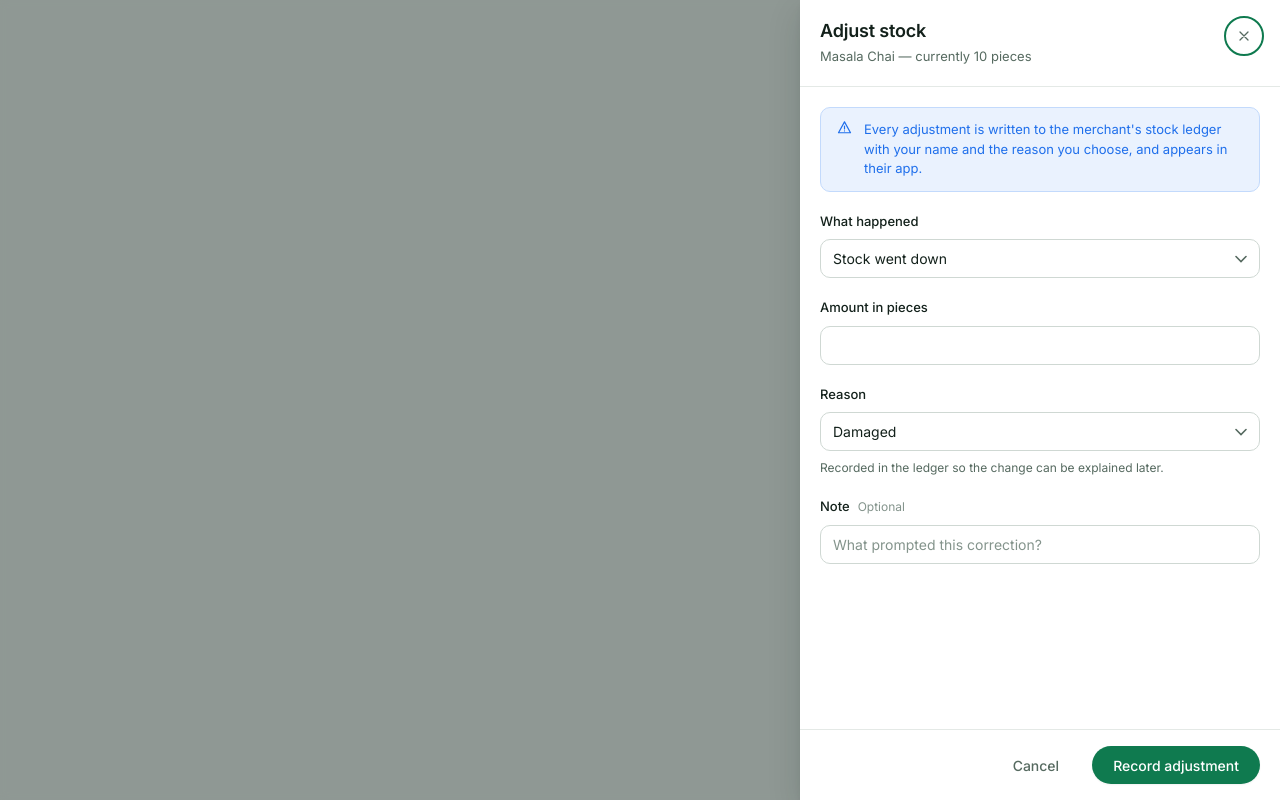
Test: StockAdjustDrawer › refuses an amount of zero or less
Type "0" into the number field labelled "Amount in pieces" at coordinates (1040, 345), box [820,326,1260,364]
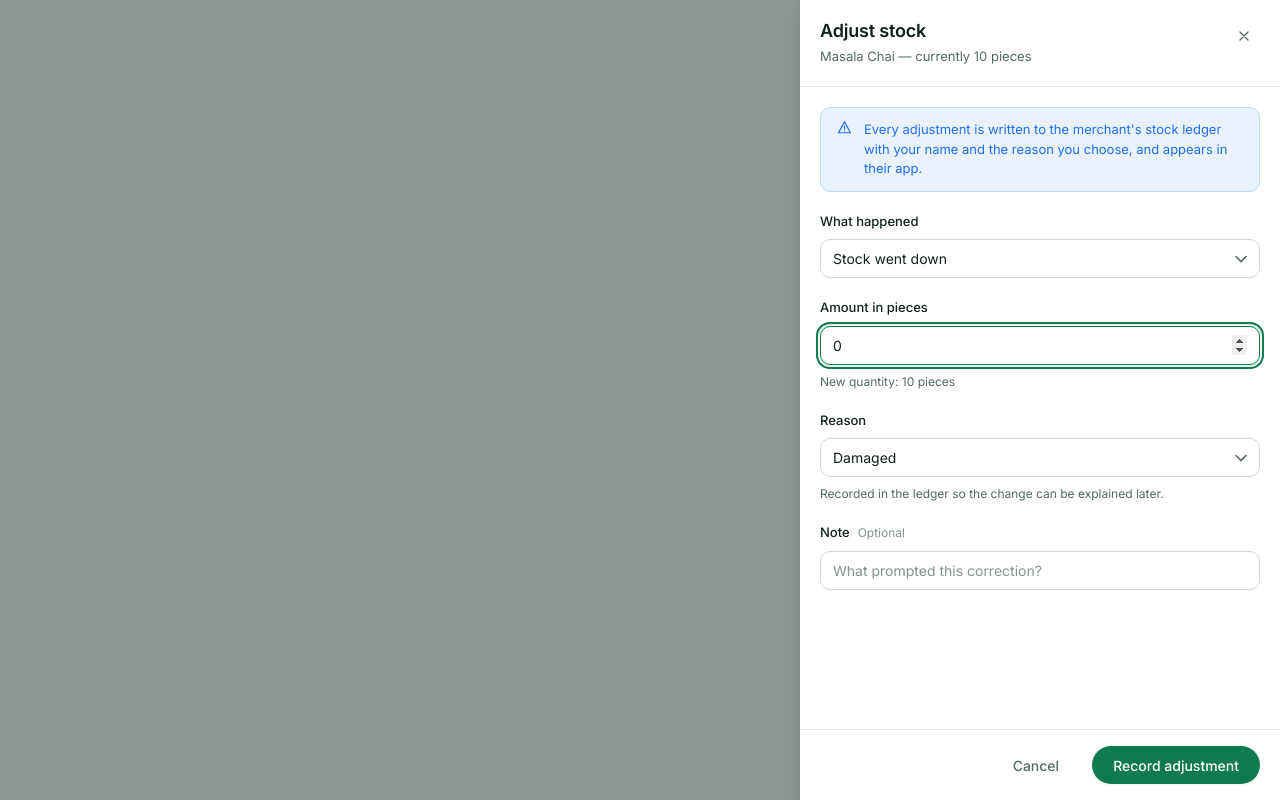
Click the button "Record adjustment" at coordinates (1176, 765), box [1092,746,1260,784]
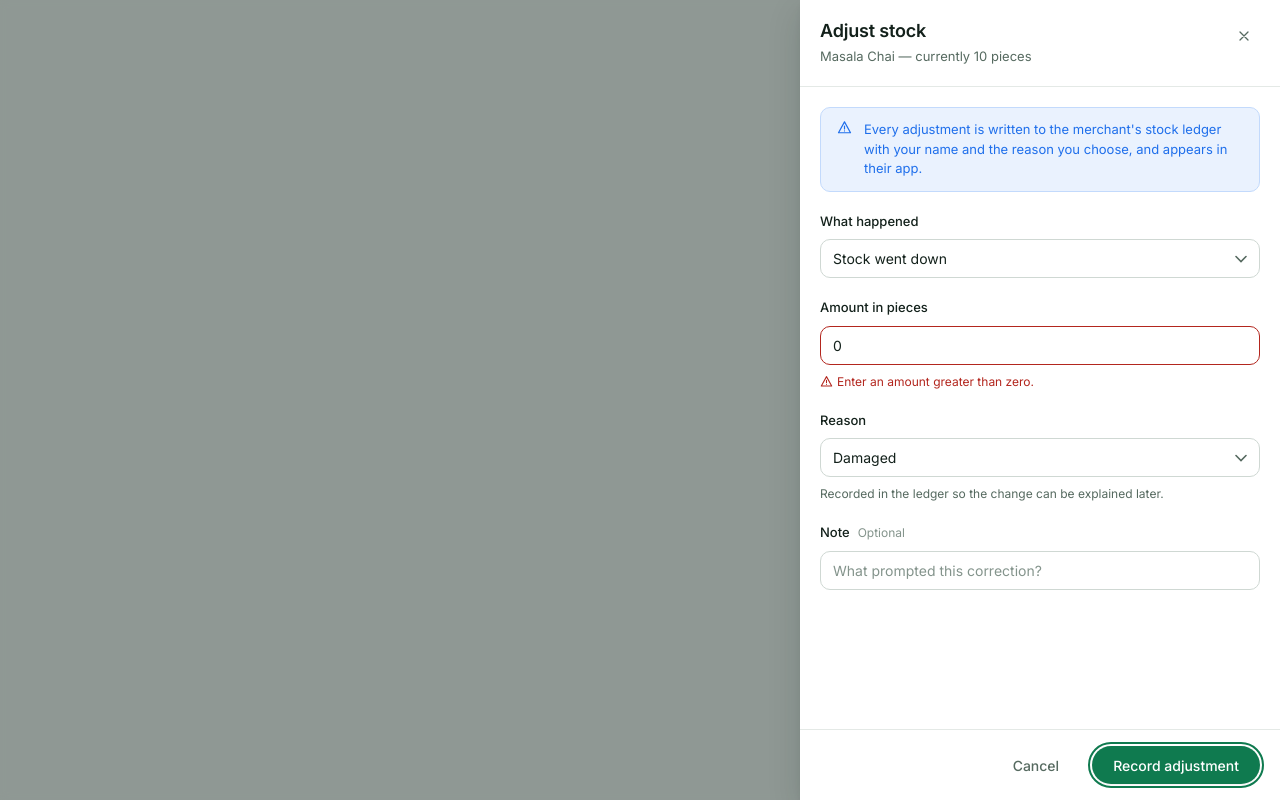
Result: the text "Enter an amount greater than zero." is shown at [820,374,1034,388]
